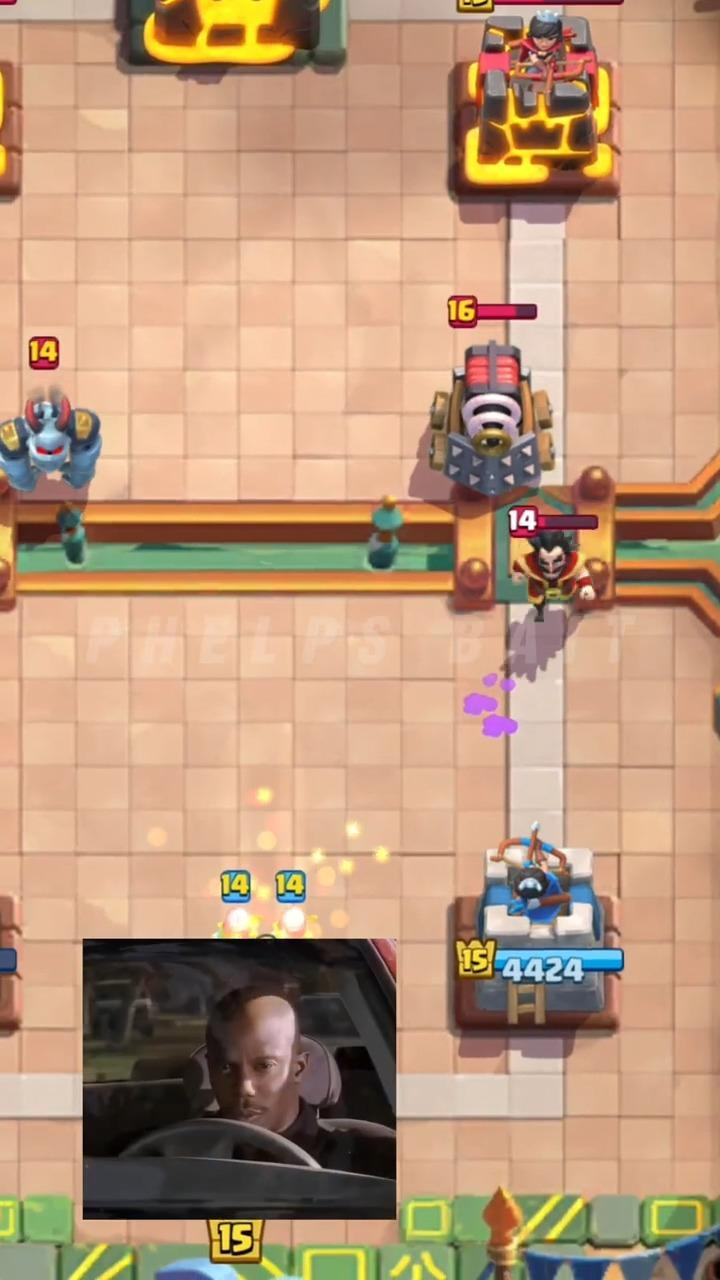electro wizard: (513, 530, 595, 622)
mega minion: (0, 392, 101, 492)
sparky: (428, 341, 553, 498)
